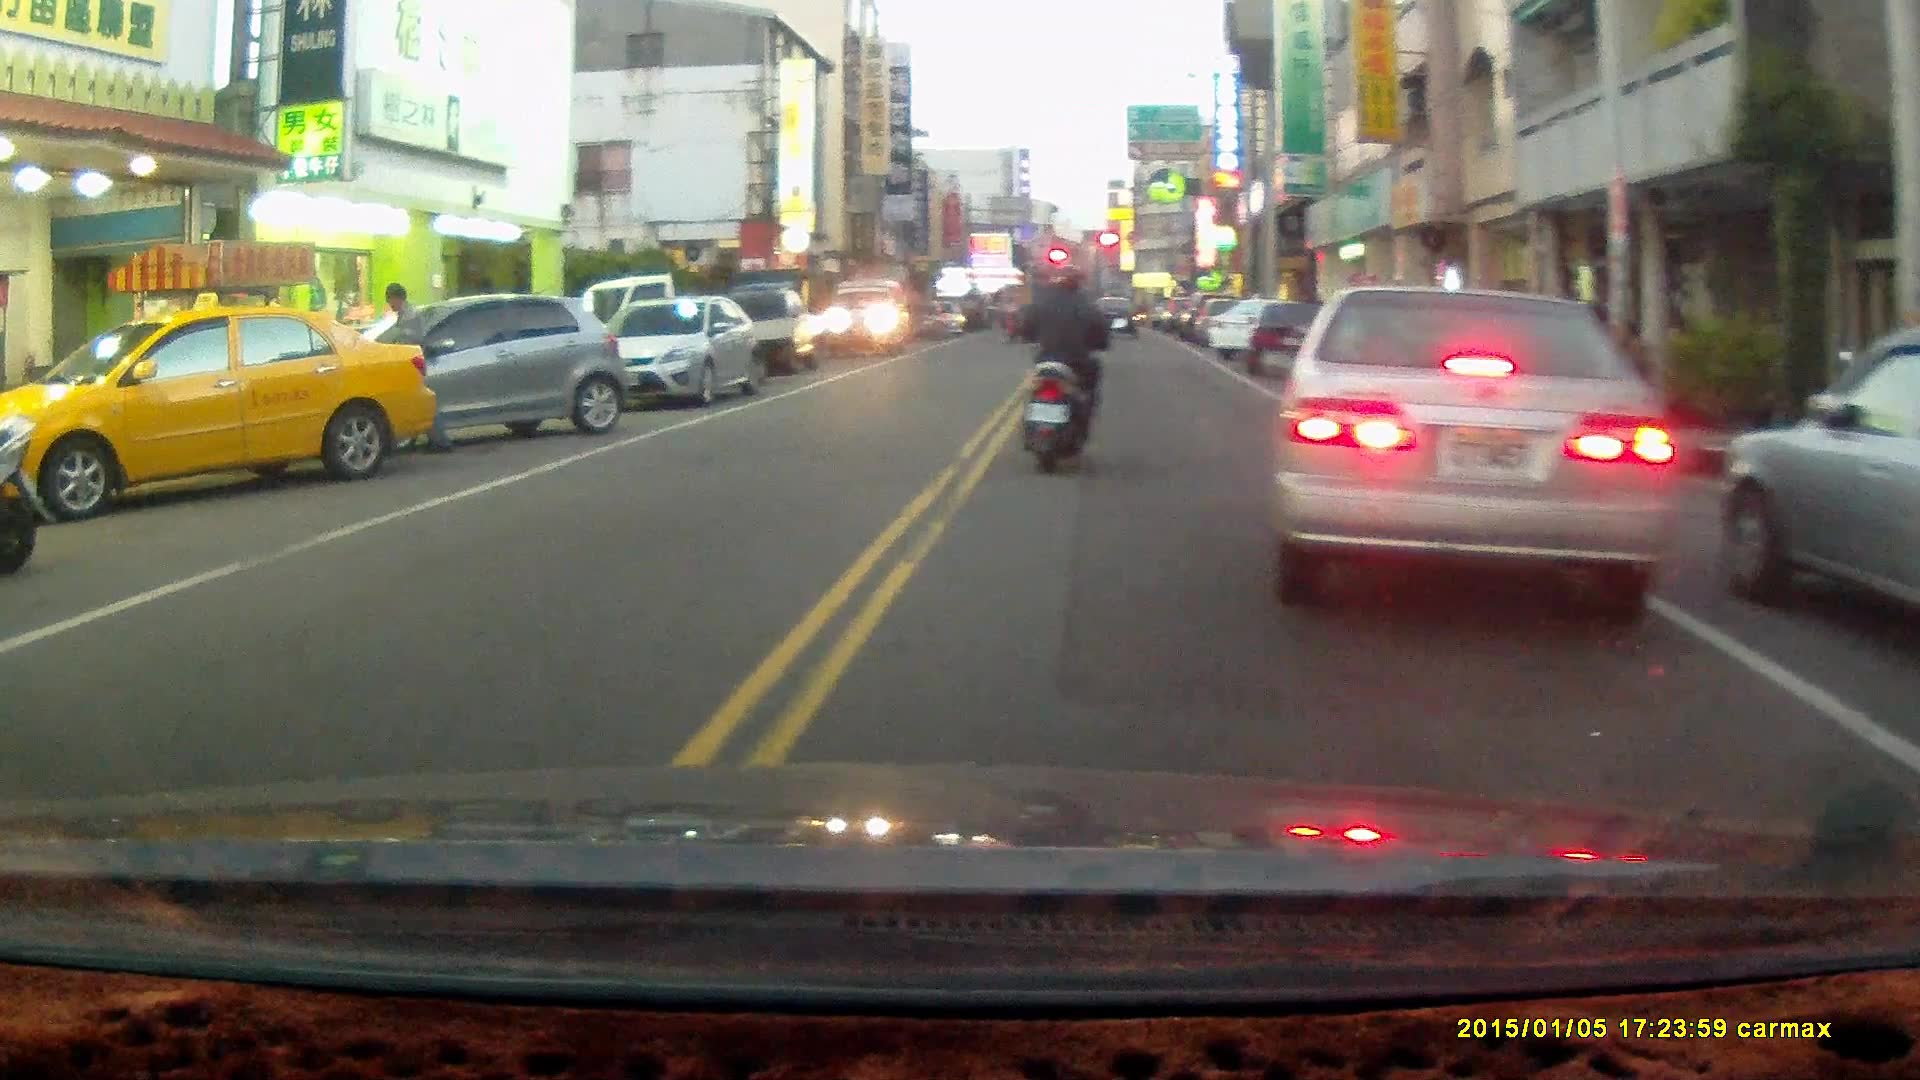pedestrian: (378, 279, 435, 459)
rider: (1012, 264, 1131, 474), (997, 286, 1024, 345)
vehicle: (1265, 284, 1680, 621), (1, 301, 438, 525), (1706, 321, 1920, 673), (328, 291, 630, 440), (600, 294, 767, 409), (715, 286, 831, 381), (826, 279, 909, 355)
